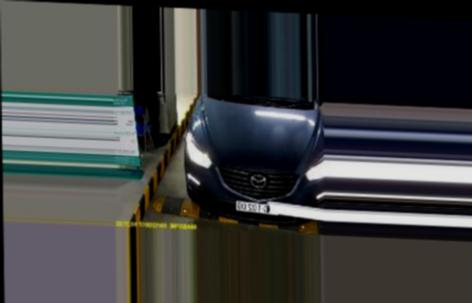License_Plate: (234, 199, 279, 216)
